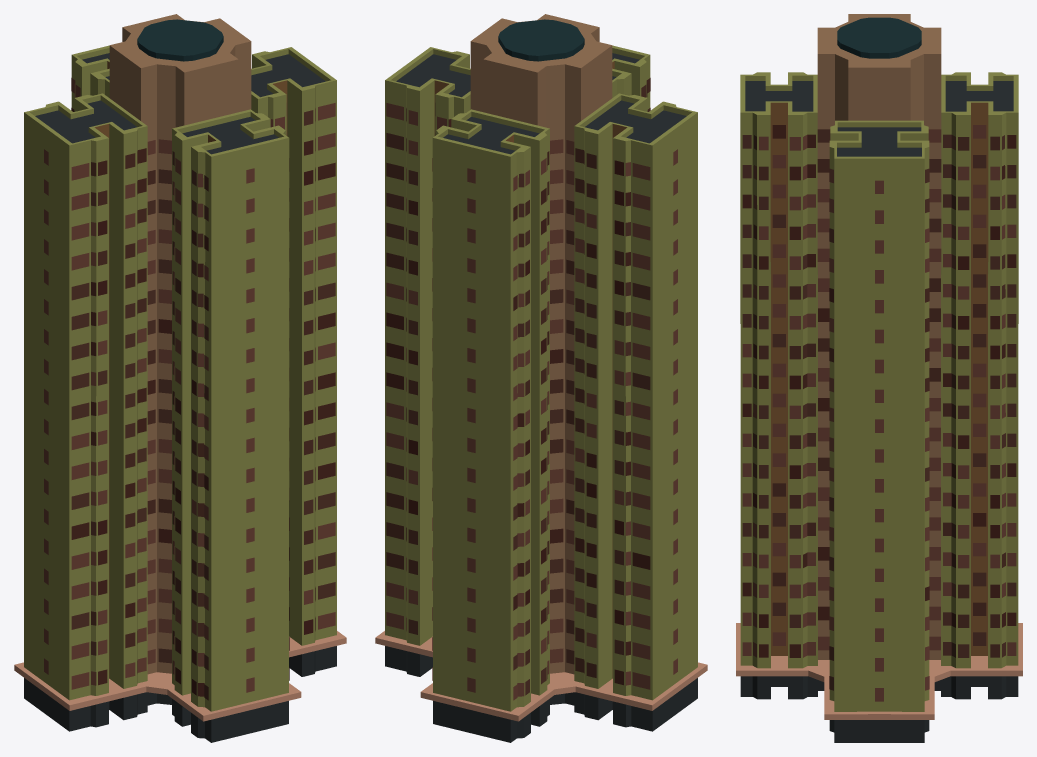
Rendered from htype.glb.
3 renders of one model, left to right at view 1: azimuth 30°, elevation 25°; view 2: azimuth 150°, elevation 25°; view 3: azimuth 270°, elevation 25°, orthographic.
Visible parts, largest first — view 1: HouseType2; view 2: HouseType2; view 3: HouseType2.
Part boxes in pixels (<box>): HouseType2: <box>14,14,346,742</box>; HouseType2: <box>375,14,707,742</box>; HouseType2: <box>736,14,1022,742</box>.
Bounding box in the file's own units: 2.1 × 4.67 × 1.89.
Materials: 1 (1 with a texture image).
